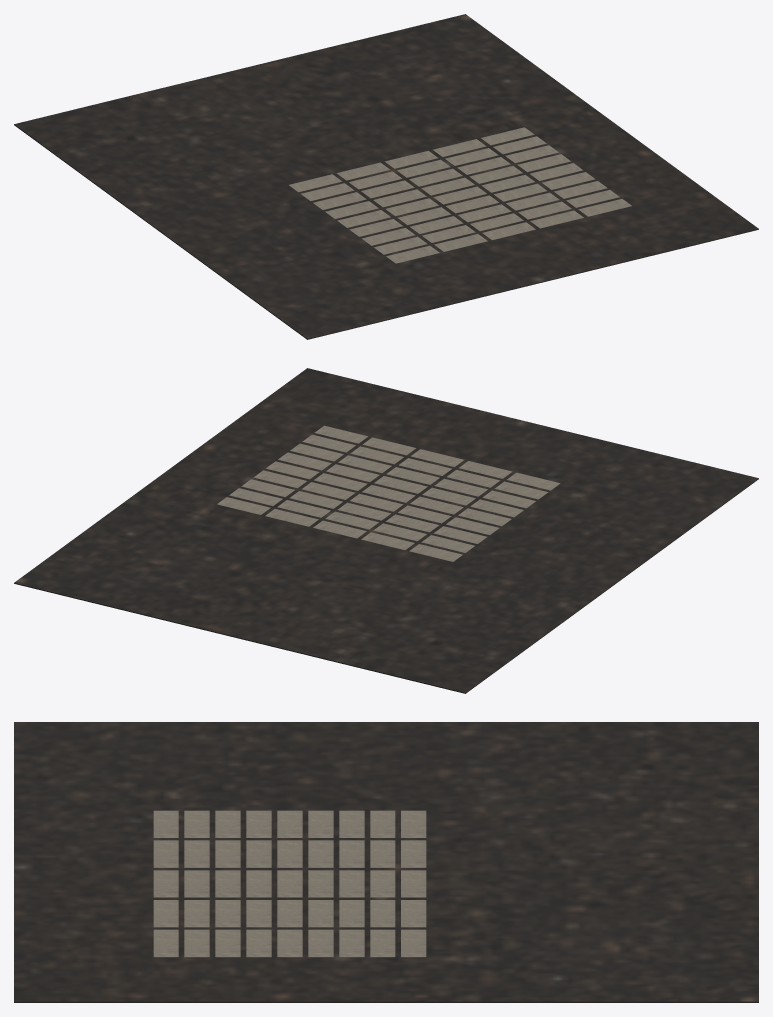
File: asphalt.glb
3 views of the same model, one above another, from view 1: azimuth 30°, elevation 25°; view 2: azimuth 150°, elevation 25°; view 3: azimuth 270°, elevation 25° (orthographic). The views are drawn at different scales.
Visible parts, largest first — view 1: ground; view 2: ground; view 3: ground, city-block.038, city-block.039, city-block.040, city-block.041, city-block.042, city-block.043, city-block.036, city-block.037, city-block.044, city-block.002, city-block.003 (+34 smaller).
Boxes of the visible parts, x1,y1,x2,y2 form: ground: [14, 14, 758, 339]; ground: [14, 368, 758, 693]; ground: [14, 722, 758, 1002]; city-block.038: [339, 929, 364, 957]; city-block.039: [308, 929, 333, 957]; city-block.040: [277, 929, 302, 957]; city-block.041: [246, 929, 271, 957]; city-block.042: [215, 929, 240, 957]; city-block.043: [184, 929, 209, 957]; city-block.036: [401, 929, 426, 957]; city-block.037: [370, 929, 395, 957]; city-block.044: [153, 929, 178, 957]; city-block.002: [339, 810, 364, 837]; city-block.003: [308, 810, 333, 837].
Bounding box in the file's own units: 284 × 1.77 × 320.
Materials: 2 (2 with a texture image).
